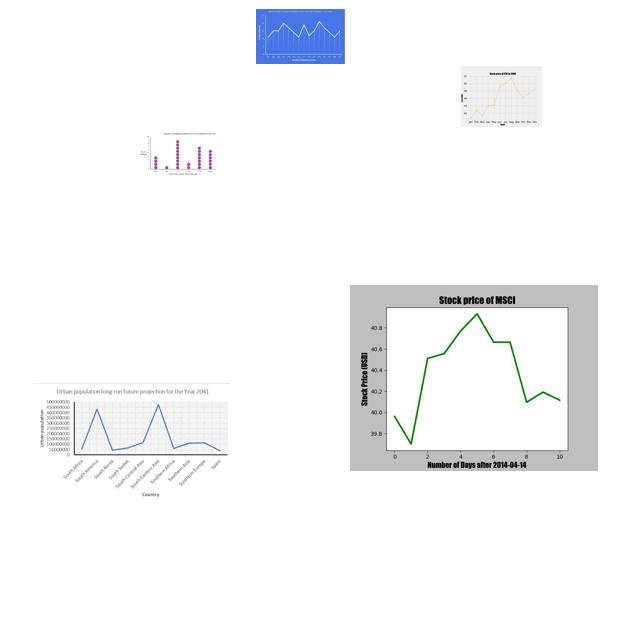Graph: (350, 285, 598, 471), (33, 383, 230, 501), (461, 66, 542, 127), (256, 9, 345, 64), (138, 131, 218, 177)
